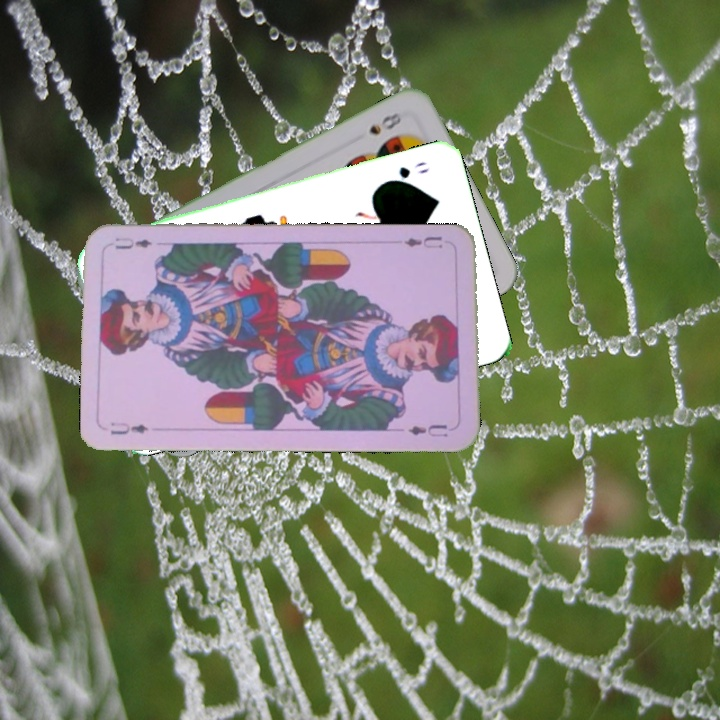EU: (107, 418, 151, 438), (400, 232, 445, 251)
GO: (380, 157, 431, 186)
S8: (365, 108, 405, 138)
